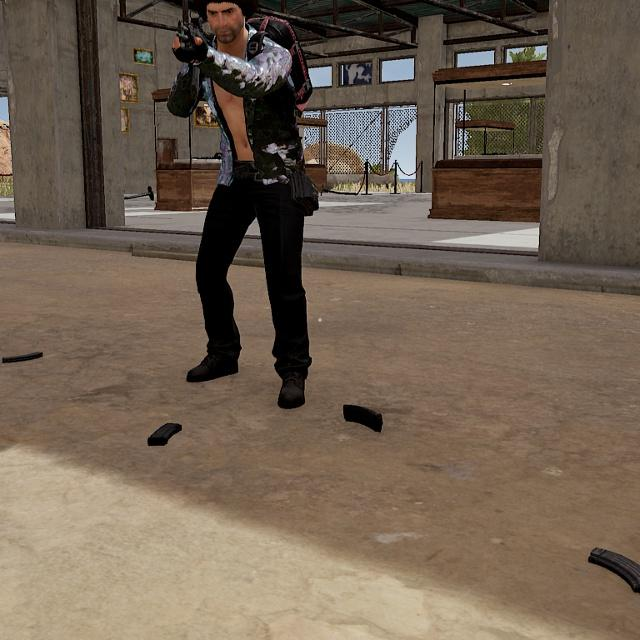head: (194, 0, 257, 45)
people: (161, 0, 334, 415)
